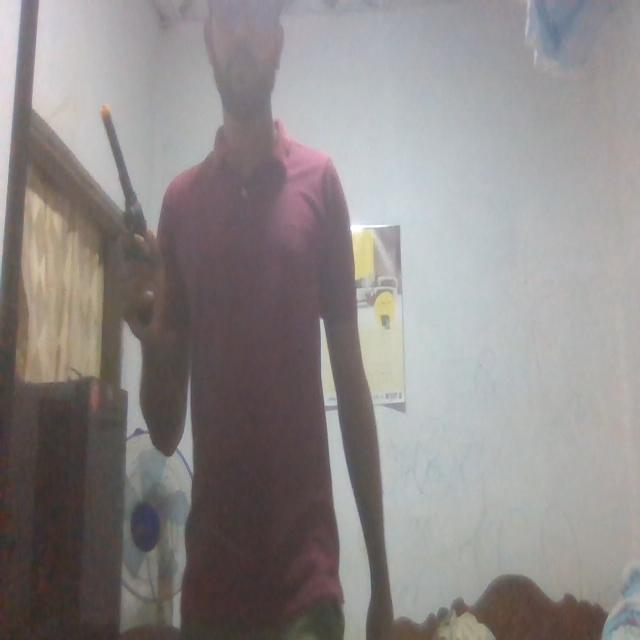Gun_Holder: (86, 104, 158, 316)
Person: (113, 0, 437, 640)
